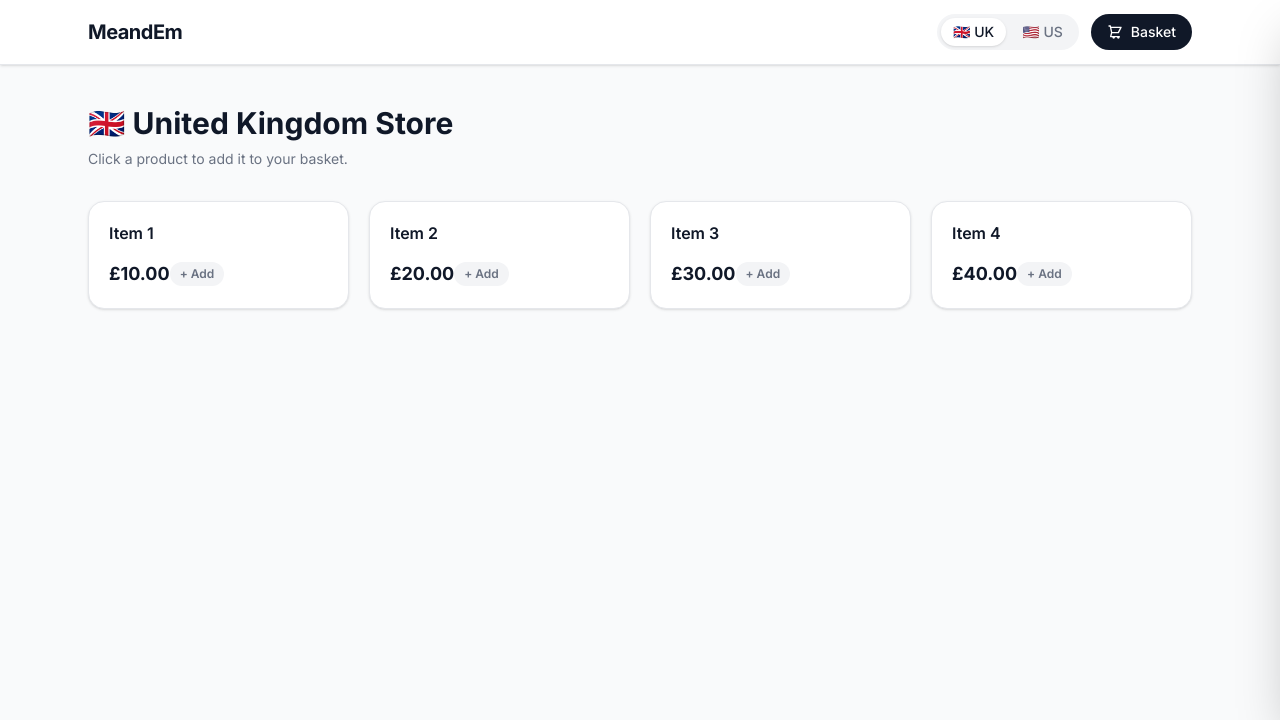
Test: Home › accumulates quantity across multiple adds
Click the button "Item 1 £10.00 + Add".
click(131, 233)  # box [88, 201, 349, 309]
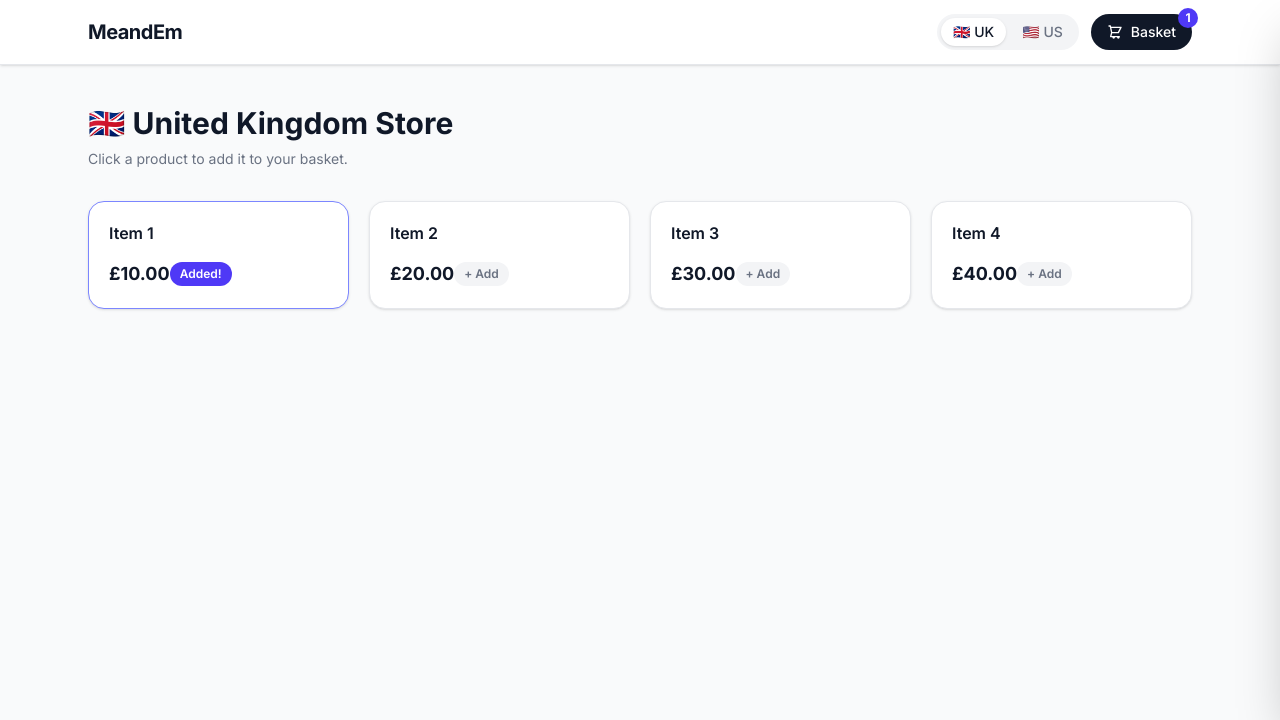
Click the button "Item 2 £20.00 + Add".
click(414, 233)  # box [369, 201, 630, 309]
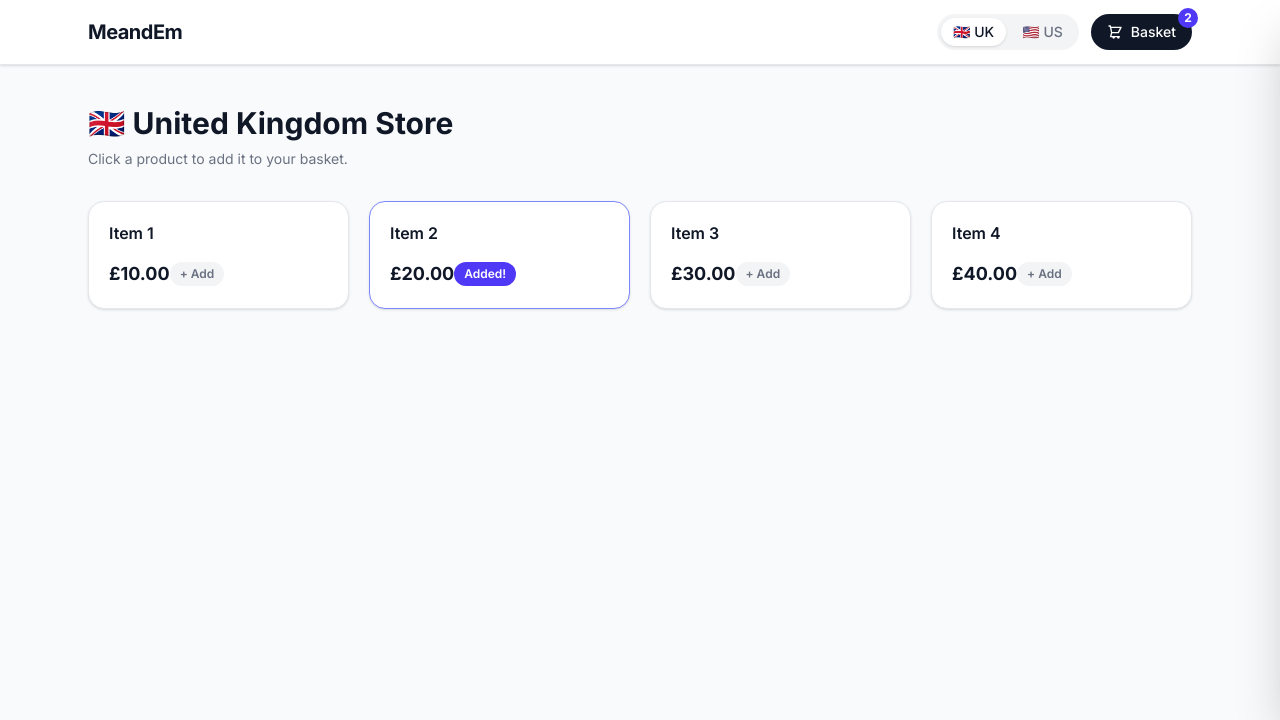
Click the button "Item 2 £20.00 Added!".
click(414, 233)  # box [369, 201, 630, 309]
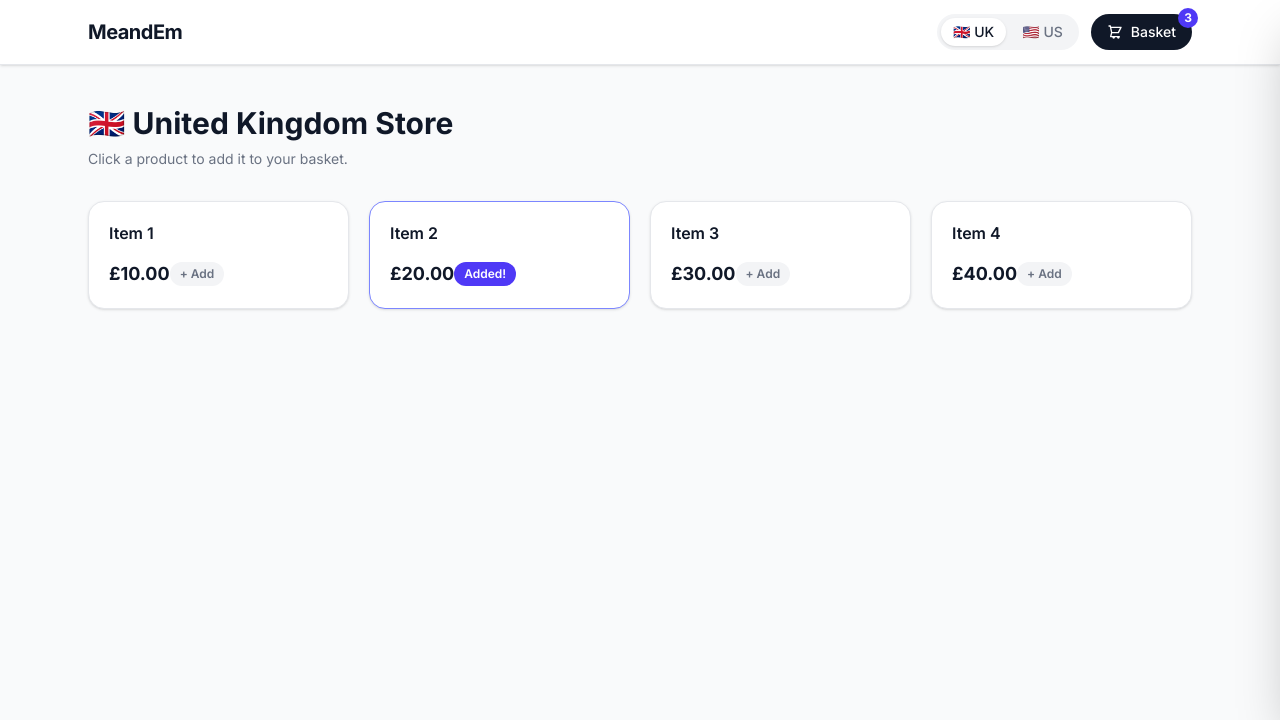
expect the text "3" is shown: met, box [1178, 8, 1198, 28]
